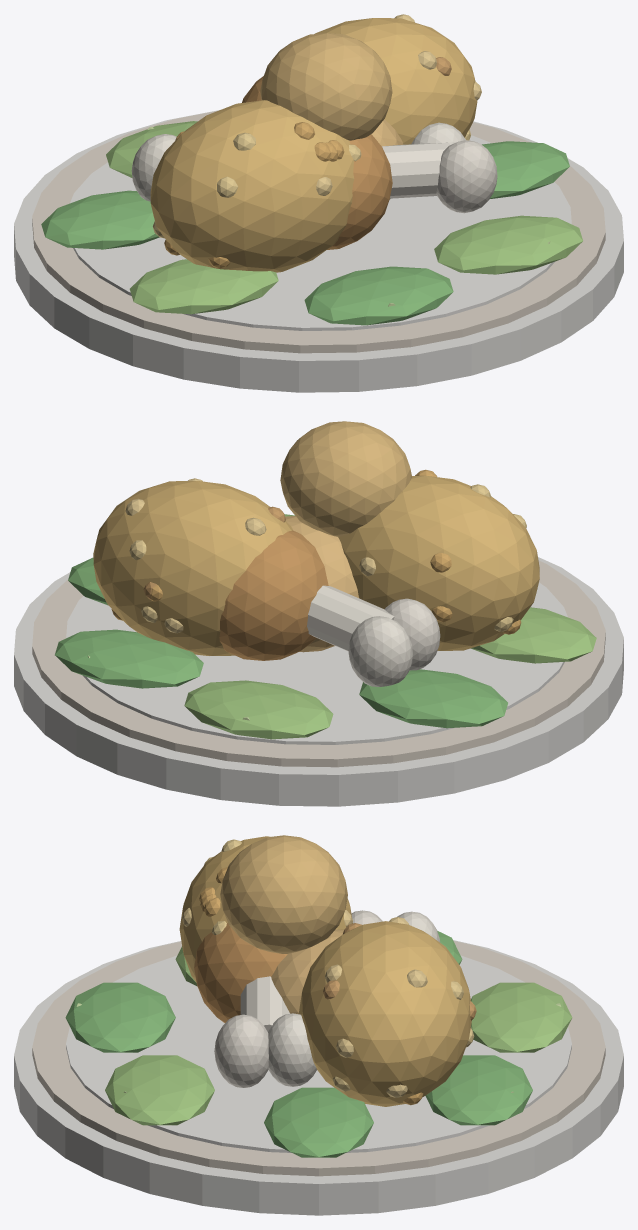
Rendered from ga_2mieng.glb.
3 views of the same model, one above another, from view 1: azimuth 30°, elevation 25°; view 2: azimuth 150°, elevation 25°; view 3: azimuth 270°, elevation 25° (orthographic).
Visible parts, largest first — view 1: obj_0000, obj_0017, obj_0002, obj_0001, obj_0074, obj_0045, obj_0005, obj_0007, obj_0009, obj_0011, obj_0018, obj_0021 (+6 smaller); view 2: obj_0000, obj_0017, obj_0045, obj_0001, obj_0002, obj_0074, obj_0046, obj_0013, obj_0015, obj_0011, obj_0009, obj_0048 (+4 smaller); view 3: obj_0000, obj_0045, obj_0001, obj_0002, obj_0074, obj_0005, obj_0007, obj_0003, obj_0013, obj_0015, obj_0018, obj_0021 (+5 smaller).
Boxes of the visible parts, x1,y1,x2,y2 form: obj_0000: [14, 110, 623, 392]; obj_0017: [150, 100, 354, 272]; obj_0002: [70, 135, 571, 330]; obj_0001: [32, 111, 605, 353]; obj_0074: [260, 33, 392, 140]; obj_0045: [315, 18, 477, 144]; obj_0005: [434, 215, 582, 274]; obj_0007: [304, 266, 453, 325]; obj_0009: [129, 259, 278, 314]; obj_0011: [41, 190, 159, 249]; obj_0018: [327, 134, 392, 249]; obj_0021: [436, 140, 497, 213]; obj_0000: [14, 557, 623, 806]; obj_0017: [338, 475, 539, 650]; obj_0045: [93, 481, 293, 655]; obj_0001: [32, 560, 605, 767]; obj_0002: [66, 582, 567, 744]; obj_0074: [280, 421, 412, 536]; obj_0046: [219, 530, 328, 660]; obj_0013: [184, 680, 333, 739]; obj_0015: [55, 629, 203, 688]; obj_0011: [359, 669, 507, 728]; obj_0009: [470, 607, 596, 663]; obj_0048: [348, 616, 412, 686]; obj_0000: [14, 940, 623, 1215]; obj_0045: [298, 921, 471, 1106]; obj_0001: [32, 941, 605, 1176]; obj_0002: [66, 955, 571, 1152]; obj_0074: [220, 835, 347, 953]; obj_0005: [105, 1055, 214, 1125]; obj_0007: [65, 982, 175, 1052]; obj_0003: [264, 1087, 373, 1157]; obj_0013: [471, 982, 572, 1052]; obj_0015: [425, 1055, 532, 1125]; obj_0018: [194, 923, 287, 1022]; obj_0021: [214, 1014, 268, 1087].
Size of the model in its own units: 2.1 by 0.91 by 2.1.
